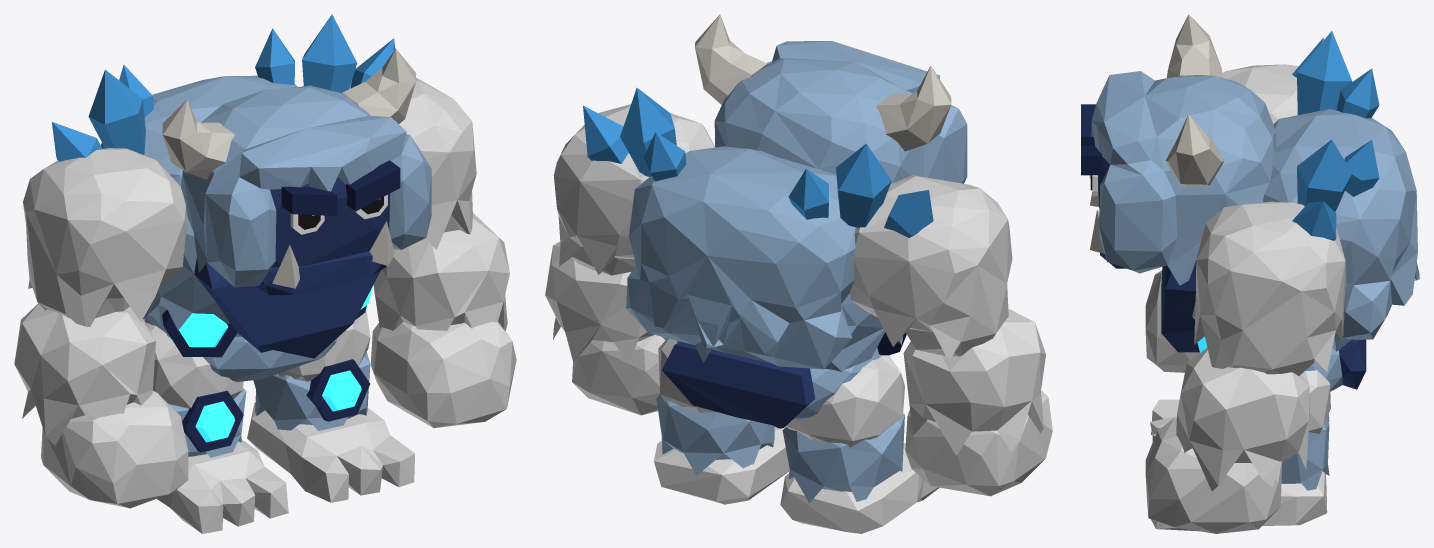
File: FrostYeti.fbx
3 views of the same model, side by side, from view 1: azimuth 30°, elevation 25°; view 2: azimuth 150°, elevation 25°; view 3: azimuth 270°, elevation 25° (orthographic). The views are drawn at different scales.
Visible parts, largest first — view 1: FrostYeti_Head, FrostYeti_UpperTorso, FrostYeti_RightUpperArm, FrostYeti_RightLowerArm, FrostYeti_LeftHand, FrostYeti_RightHand, FrostYeti_LeftLowerArm, FrostYeti_LeftFoot, FrostYeti_LeftUpperArm, FrostYeti_RightFoot, FrostYeti_LeftLowerLeg, FrostYeti_Jaw (+7 smaller); view 2: FrostYeti_UpperTorso, FrostYeti_Head, FrostYeti_RightUpperArm, FrostYeti_RightLowerArm, FrostYeti_LeftUpperArm, FrostYeti_LowerTorso, FrostYeti_RightHand, FrostYeti_LeftLowerArm, FrostYeti_RightLowerLeg, FrostYeti_RightUpperLeg, FrostYeti_RightFoot, FrostYeti_LeftLowerLeg (+3 smaller); view 3: FrostYeti_Head, FrostYeti_UpperTorso, FrostYeti_LeftUpperArm, FrostYeti_LeftLowerArm, FrostYeti_LeftHand, FrostYeti_RightUpperArm, FrostYeti_LeftFoot, FrostYeti_RightHand, FrostYeti_LeftLowerLeg, FrostYeti_LowerTorso, FrostYeti_LeftUpperLeg, FrostYeti_RightFoot (+1 smaller).
Part boxes in pixels (x1,y1,x2,y2): FrostYeti_Head: (162, 48, 431, 287); FrostYeti_UpperTorso: (52, 14, 395, 358); FrostYeti_RightUpperArm: (23, 148, 187, 327); FrostYeti_RightLowerArm: (14, 303, 155, 445); FrostYeti_LeftHand: (370, 321, 516, 427); FrostYeti_RightHand: (41, 391, 188, 508); FrostYeti_LeftLowerArm: (373, 213, 509, 330); FrostYeti_LeftFoot: (247, 402, 415, 502); FrostYeti_LeftUpperArm: (399, 78, 476, 249); FrostYeti_RightFoot: (157, 439, 288, 533); FrostYeti_LeftLowerLeg: (253, 352, 370, 430); FrostYeti_Jaw: (255, 221, 394, 295); FrostYeti_UpperTorso: (583, 88, 933, 371); FrostYeti_Head: (695, 14, 967, 183); FrostYeti_RightUpperArm: (850, 175, 1012, 361); FrostYeti_RightLowerArm: (903, 309, 1045, 455); FrostYeti_LeftUpperArm: (553, 104, 715, 275); FrostYeti_LowerTorso: (662, 340, 881, 428); FrostYeti_RightHand: (905, 390, 1052, 496); FrostYeti_LeftLowerArm: (545, 241, 666, 364); FrostYeti_RightLowerLeg: (782, 413, 904, 502); FrostYeti_RightUpperLeg: (785, 355, 904, 447); FrostYeti_RightFoot: (780, 443, 939, 533); FrostYeti_LeftLowerLeg: (656, 393, 774, 475); FrostYeti_Head: (1081, 14, 1275, 285); FrostYeti_UpperTorso: (1161, 31, 1419, 352); FrostYeti_LeftUpperArm: (1194, 201, 1346, 375); FrostYeti_LeftLowerArm: (1176, 348, 1309, 491); FrostYeti_LeftHand: (1145, 417, 1282, 533); FrostYeti_RightUpperArm: (1222, 64, 1298, 124); FrostYeti_LeftFoot: (1151, 471, 1327, 531); FrostYeti_RightHand: (1145, 270, 1199, 372); FrostYeti_LeftLowerLeg: (1281, 418, 1329, 490); FrostYeti_LowerTorso: (1305, 339, 1366, 391); FrostYeti_LeftUpperLeg: (1306, 370, 1330, 433); FrostYeti_RightFoot: (1150, 399, 1179, 441).
Size of the model in its own units: 62.48 by 54.71 by 40.18.
